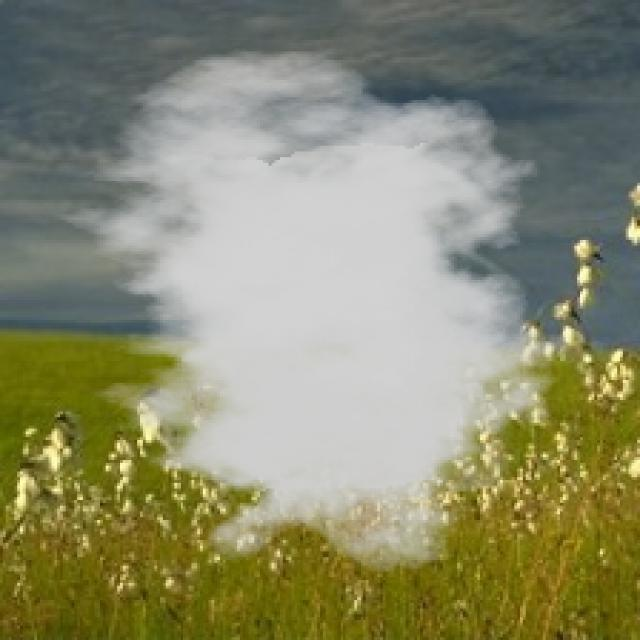Smoke: (37, 48, 580, 574)
